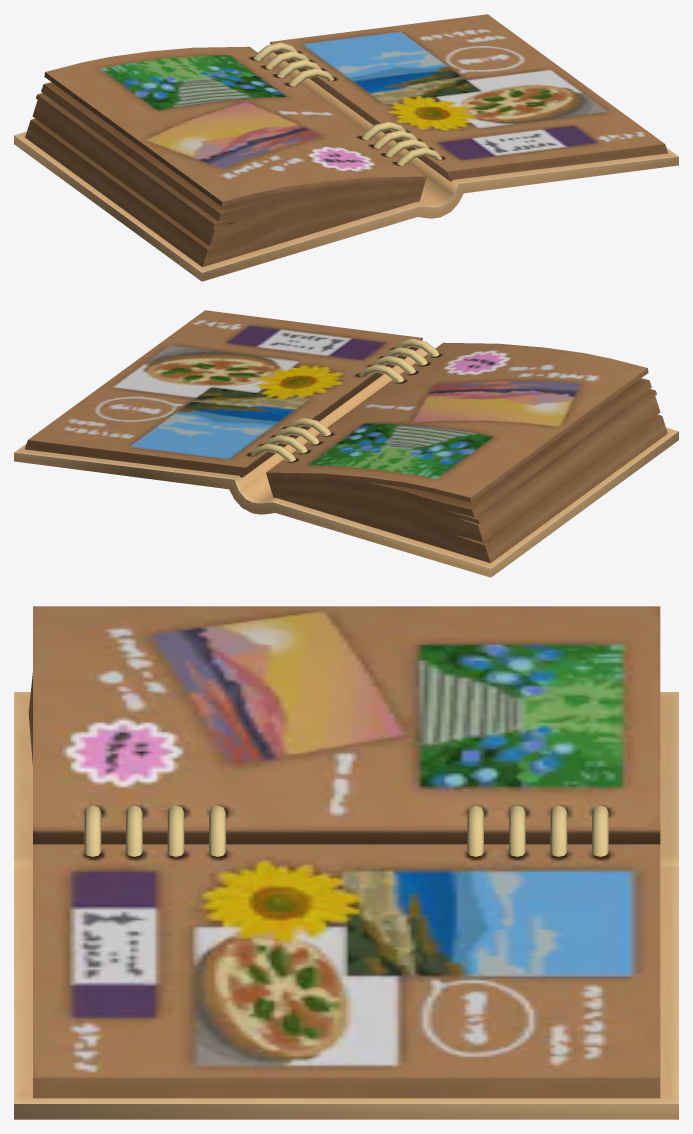
The picture shows the model from 3 angles, top to bottom: view 1: azimuth 30°, elevation 25°; view 2: azimuth 150°, elevation 25°; view 3: azimuth 270°, elevation 25°; orthographic projection. The views are drawn at different scales.
Size of the model in its own units: 8.07 by 1.14 by 5.51.
Materials: 1 (1 with a texture image).
